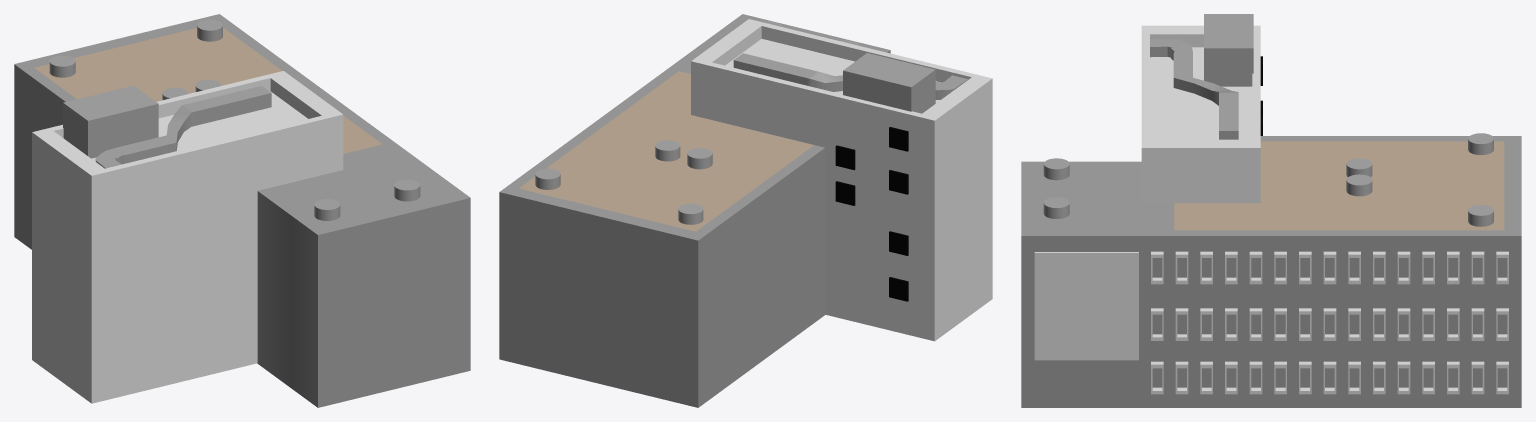
File: Building next to roc van twente.fbx
The picture shows the model from 3 angles, left to right: view 1: azimuth 30°, elevation 25°; view 2: azimuth 150°, elevation 25°; view 3: azimuth 270°, elevation 25°; orthographic projection. The views are drawn at different scales.
Visible parts, largest first — view 1: pCube1, pCube2, pCube55, pCube56, pCylinder6, pCylinder1, pCylinder5, pCylinder2; view 2: pCube1, pCube2, pCube55, pCube56, pCylinder1, pCylinder3, pCylinder2, pCylinder4, pCube54, pCube53; view 3: pCube1, pCube2, pCube3, pCube55, pCube56, pCylinder3, pCylinder5, pCylinder6, pCylinder1, pCylinder2.
Boxes of the visible parts, left/top/right/bottom form: pCube1: left=14, top=14, right=470, bottom=407; pCube2: left=32, top=71, right=343, bottom=403; pCube55: left=63, top=85, right=158, bottom=158; pCube56: left=95, top=86, right=271, bottom=168; pCylinder6: left=394, top=179, right=420, bottom=201; pCylinder1: left=49, top=55, right=75, bottom=77; pCylinder5: left=314, top=199, right=340, bottom=220; pCylinder2: left=197, top=19, right=222, bottom=41; pCube1: left=499, top=14, right=890, bottom=407; pCube2: left=691, top=19, right=992, bottom=341; pCube55: left=843, top=53, right=935, bottom=113; pCube56: left=733, top=53, right=968, bottom=99; pCylinder1: left=678, top=203, right=703, bottom=224; pCylinder3: left=655, top=140, right=680, bottom=161; pCylinder2: left=535, top=168, right=560, bottom=189; pCylinder4: left=687, top=148, right=712, bottom=169; pCube54: left=835, top=181, right=855, bottom=205; pCube53: left=835, top=145, right=855, bottom=170; pCube1: left=1021, top=136, right=1521, bottom=407; pCube2: left=1141, top=25, right=1260, bottom=203; pCube3: left=1034, top=252, right=1138, bottom=360; pCube55: left=1204, top=14, right=1253, bottom=86; pCube56: left=1150, top=39, right=1238, bottom=139; pCylinder3: left=1346, top=174, right=1372, bottom=196; pCylinder5: left=1043, top=158, right=1069, bottom=180; pCylinder6: left=1043, top=197, right=1069, bottom=218; pCylinder1: left=1468, top=133, right=1493, bottom=154; pCylinder2: left=1468, top=205, right=1493, bottom=226.
Bounding box in the file's own units: 326 × 243 × 437.
